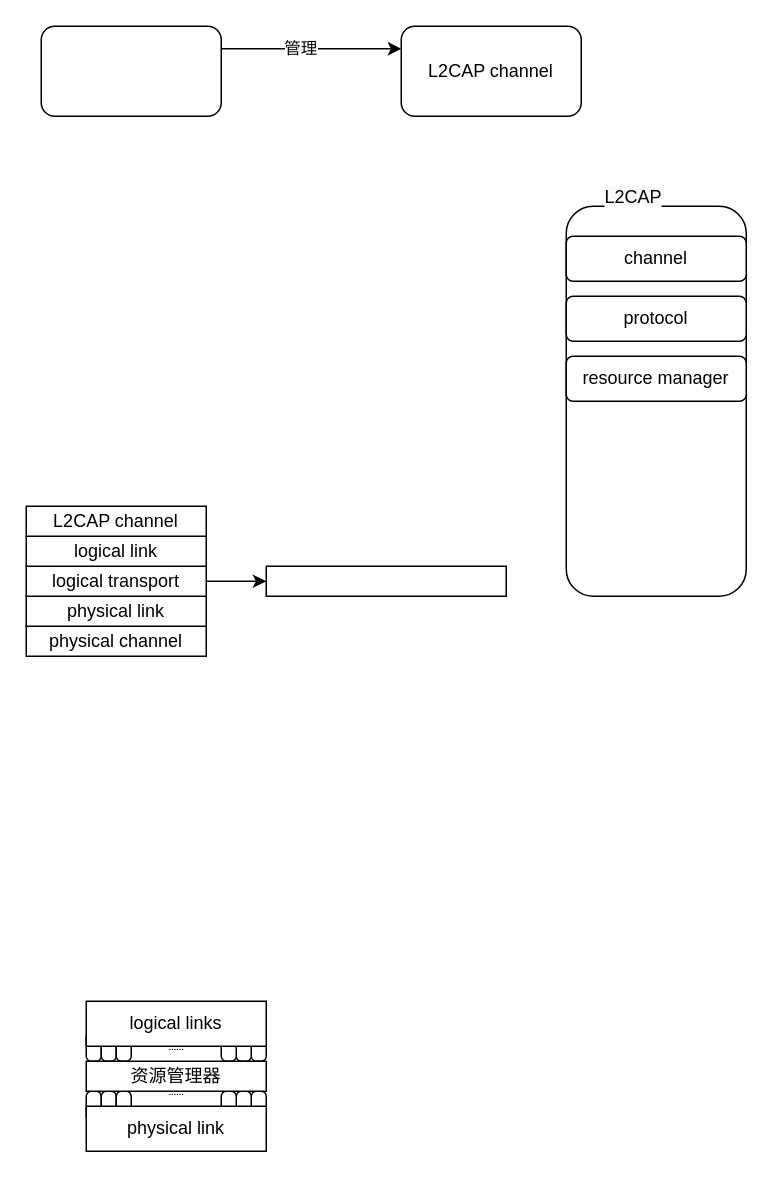
Image size: 773x1178. Some labels were removed from this diagram. Here are the shapes that lost their labels. From the top down, the centre of each, then its label:
At point (130, 70): "Channel manager".
At point (385, 580): "LMP protocol signaling".
